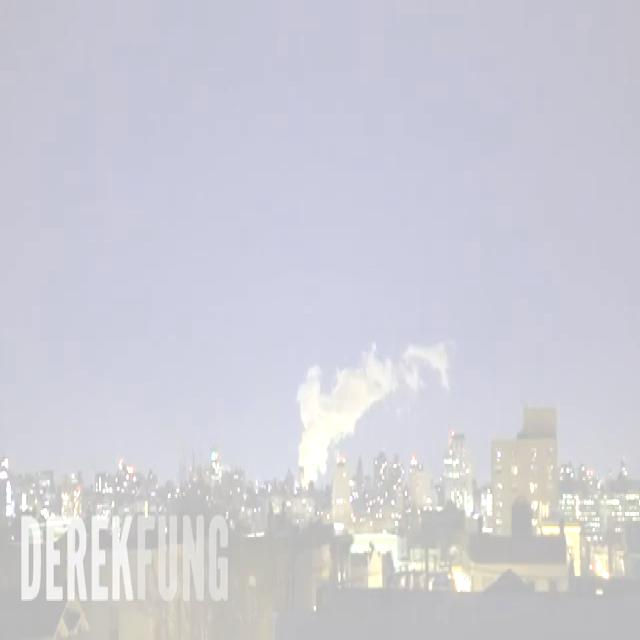smoke: (297, 343, 447, 482)
